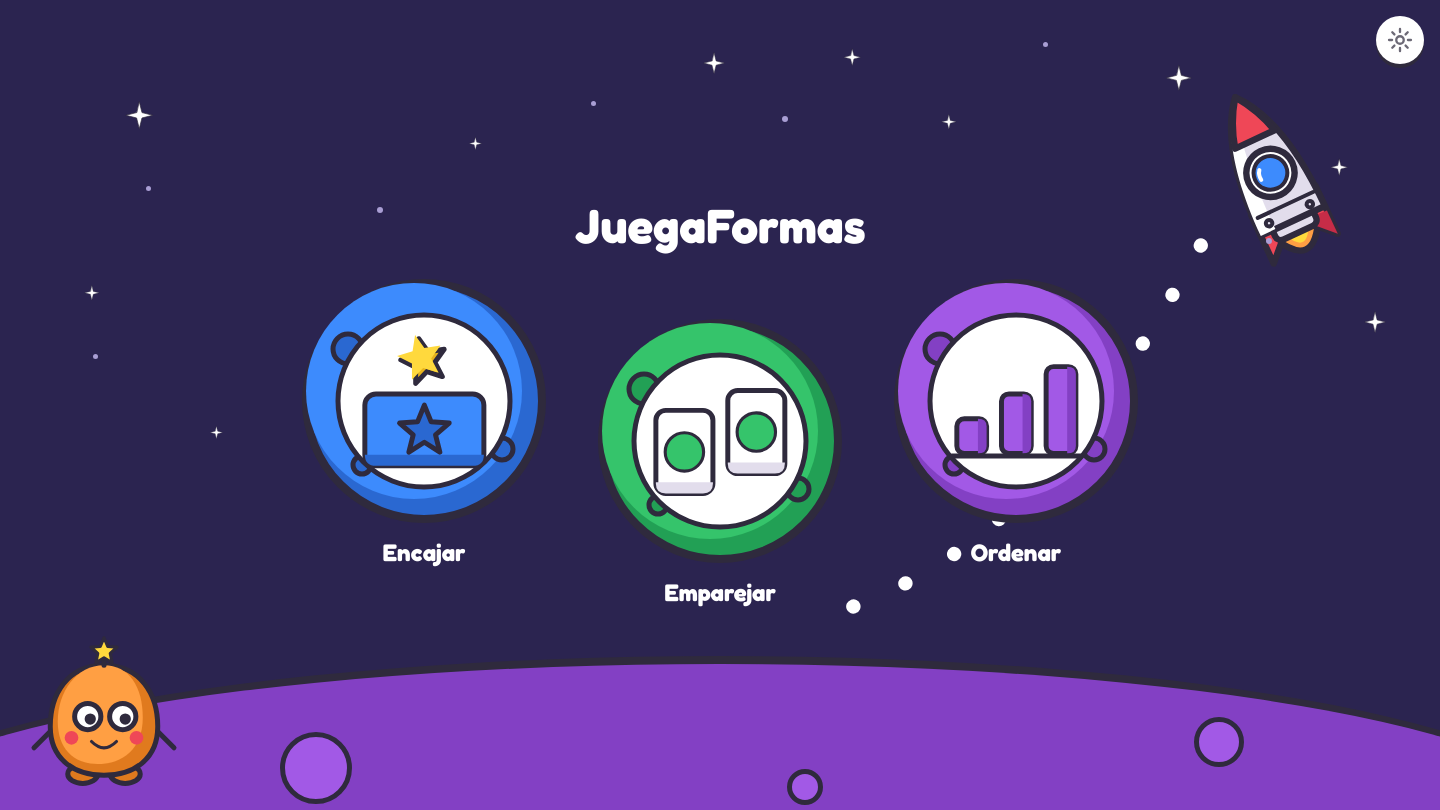
el idioma se cambia y el juego entero cambia con él
The width and height of the screenshot is (1440, 810).
Step 1. Press the mouse on the button named "Ajustes. Mantén pulsado para abrir" → [1400, 40], box [1376, 16, 1424, 64]
Wait 800 ms
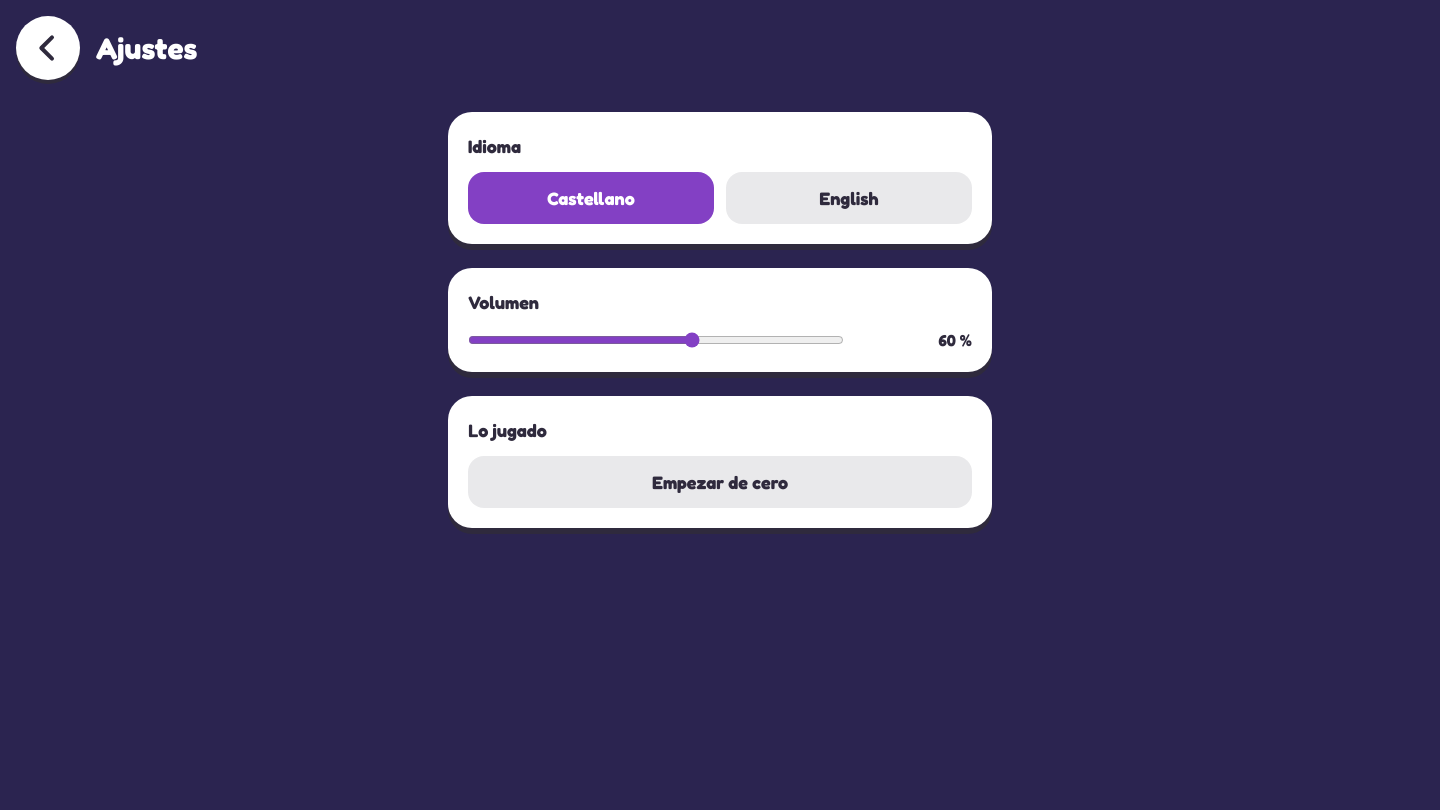
Step 2. Click the button "English" → [849, 198], box [726, 172, 972, 224]
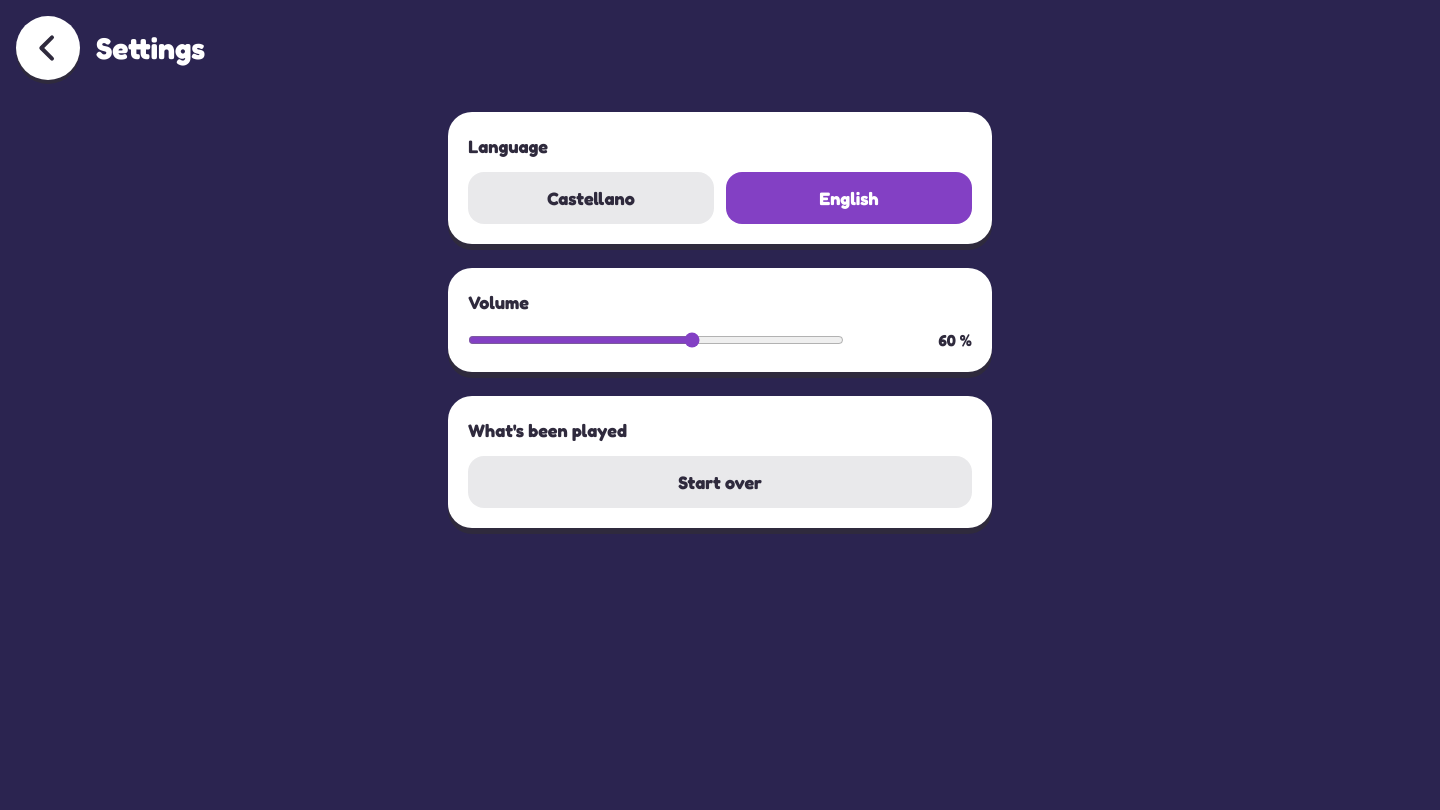
Expected: the heading "Settings" is shown, [96, 30, 205, 66]
